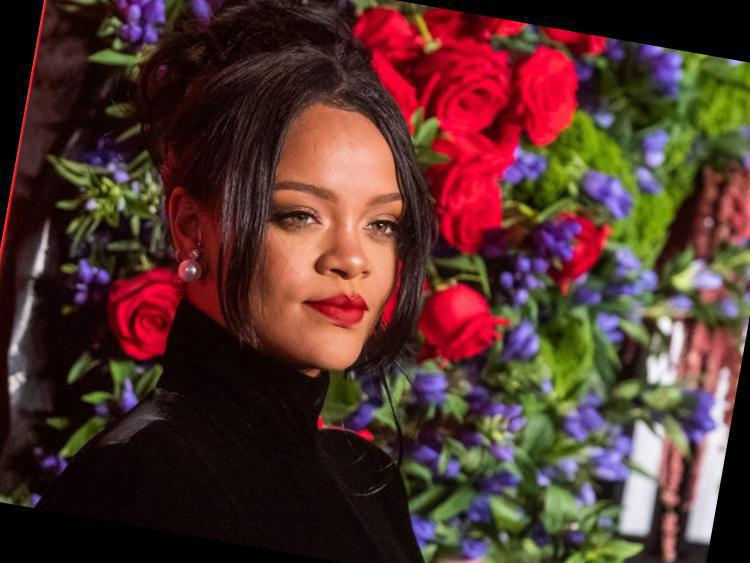Sober: (242, 103, 397, 370)
